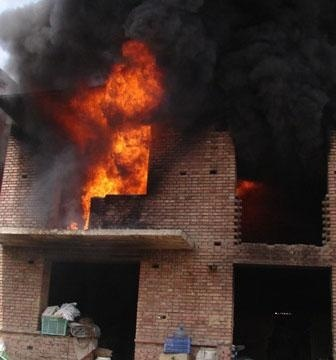fire: (66, 34, 162, 207)
